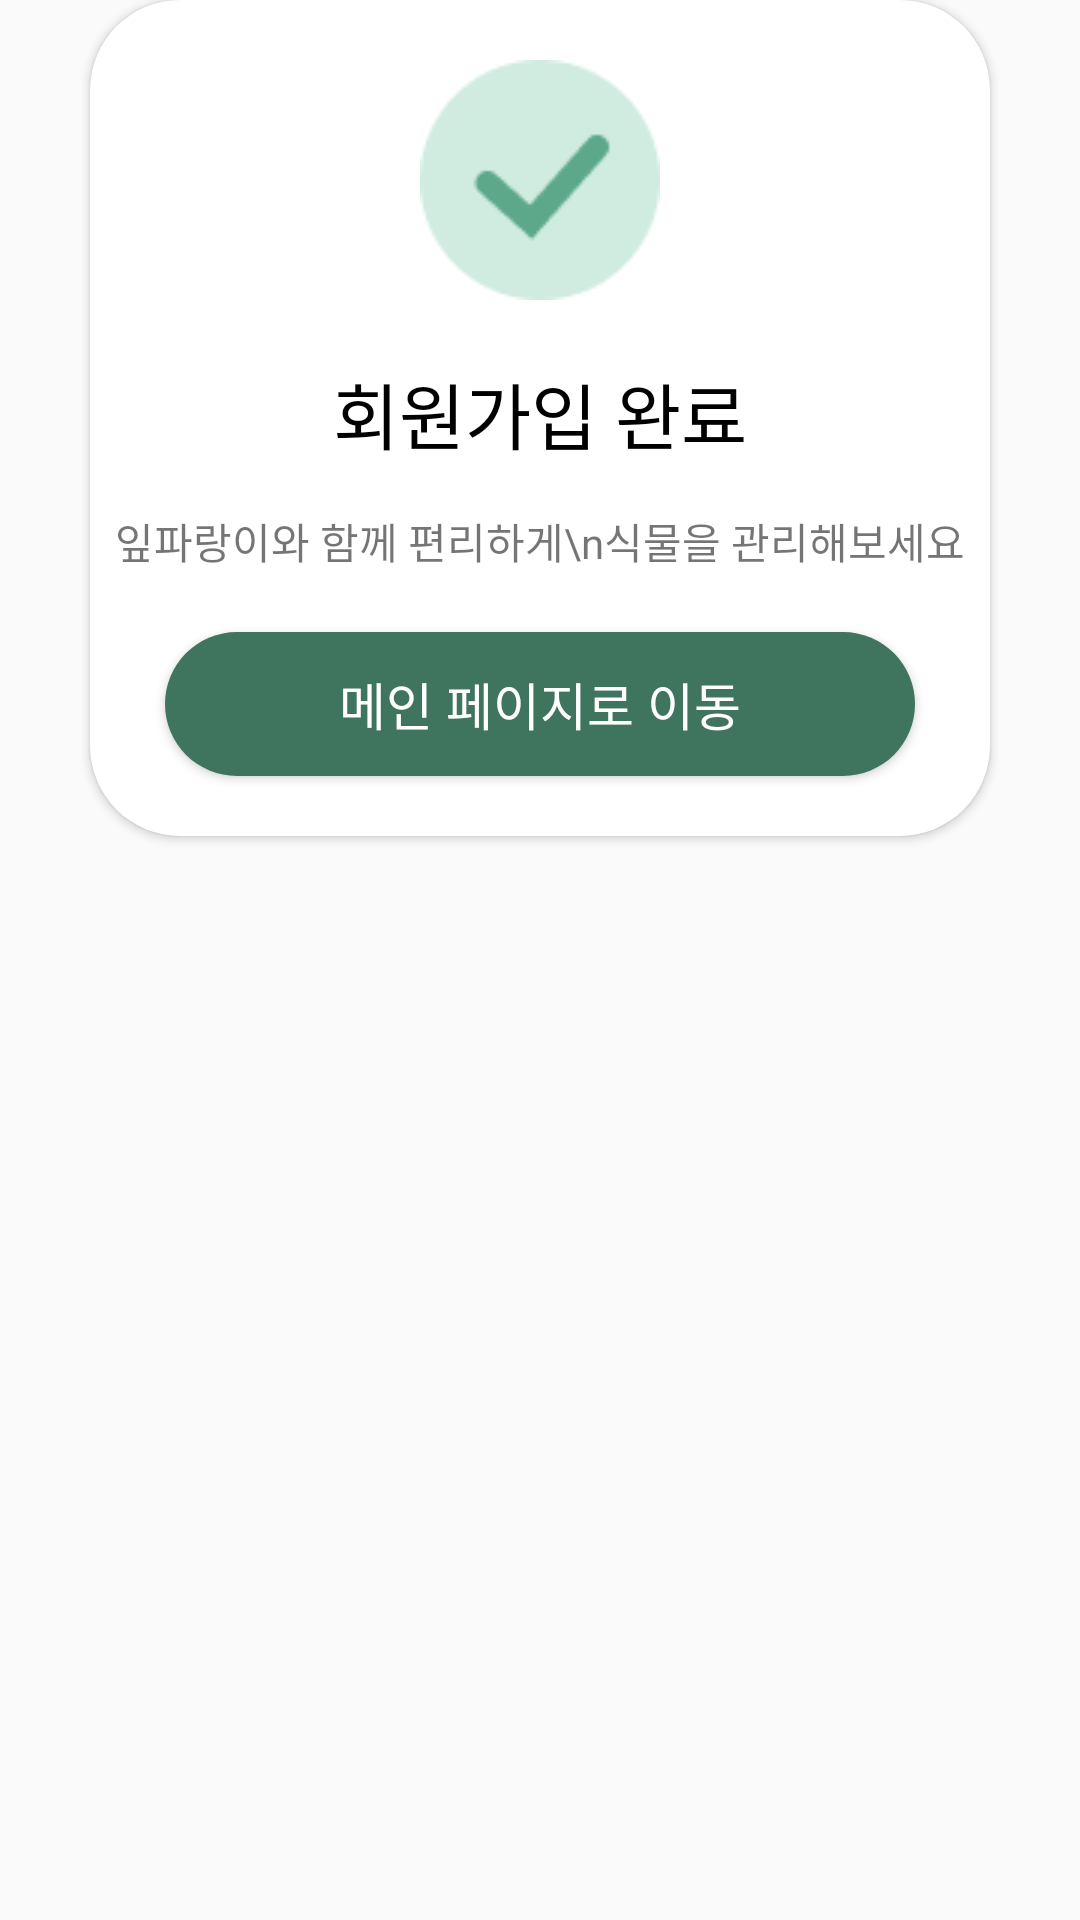

Icon click points for this 1080 × 1920 phone screenshot, format (x,y):
check: (540,180)
